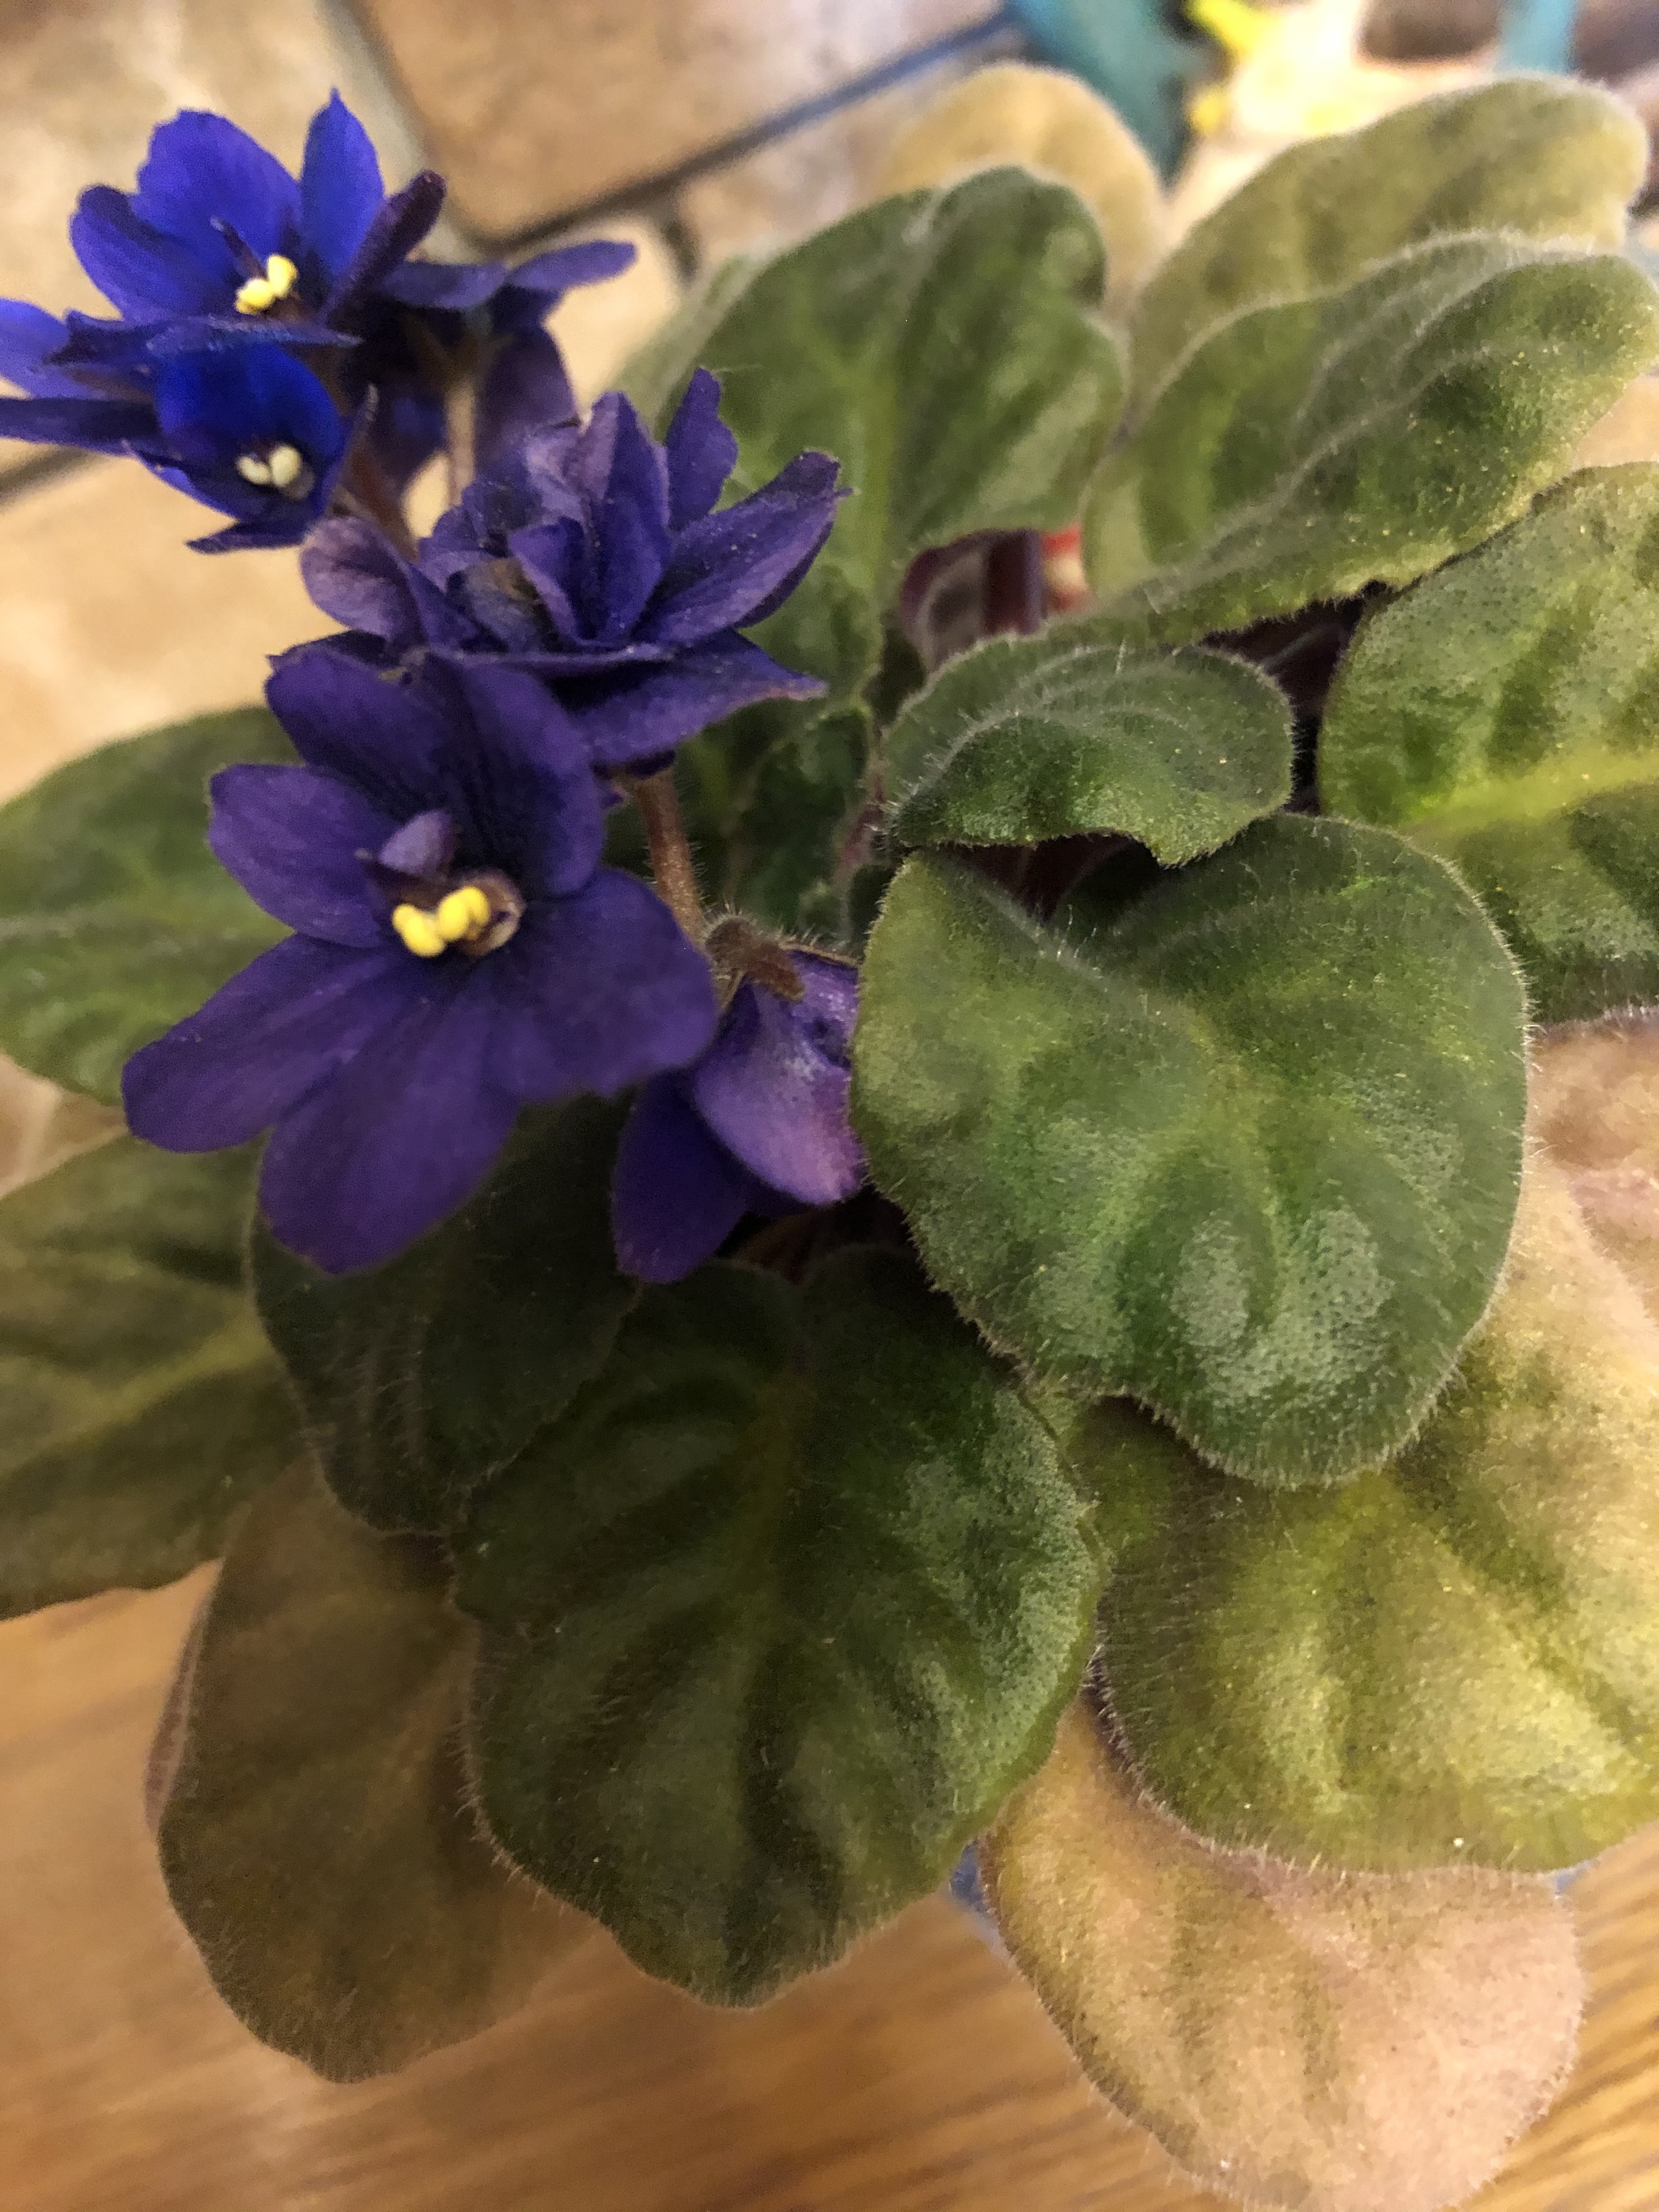ignore: (9, 54, 1635, 2101)
